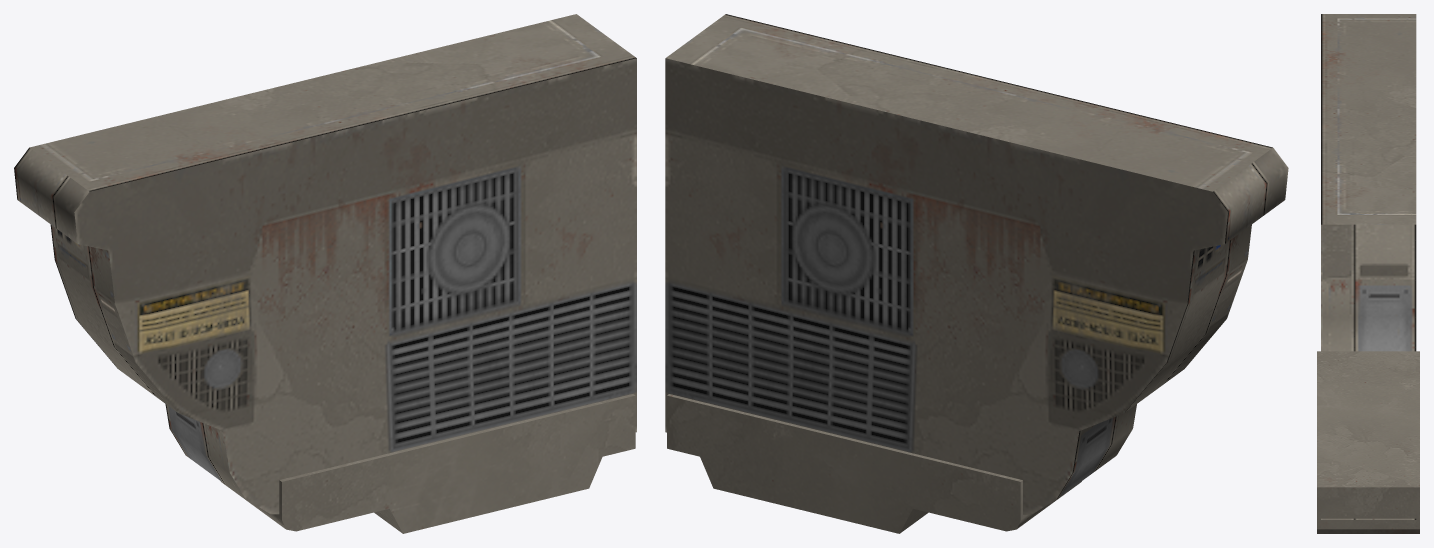
Rendered from CP_Canopy_Industrial_End.fbx.
3 views of the same model, side by side, from view 1: azimuth 30°, elevation 25°; view 2: azimuth 150°, elevation 25°; view 3: azimuth 270°, elevation 25° (orthographic). The views are drawn at different scales.
Visible parts, largest first — view 1: CP_Canopy_Industrial_End; view 2: CP_Canopy_Industrial_End; view 3: CP_Canopy_Industrial_End.
Boxes of the visible parts, <box> form: CP_Canopy_Industrial_End: <box>14,14,636,533</box>; CP_Canopy_Industrial_End: <box>665,14,1288,533</box>; CP_Canopy_Industrial_End: <box>1317,14,1419,533</box>.
Size of the model in its own units: 161 by 114 by 32.37.
